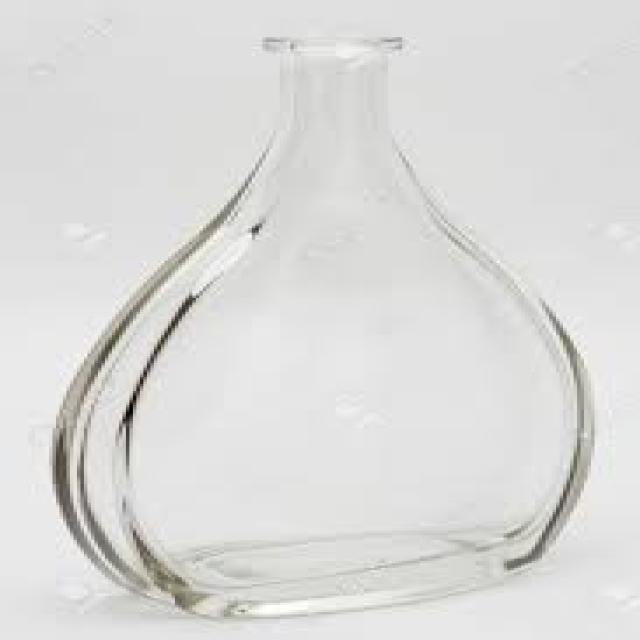Glass-Bottle: (48, 18, 591, 630)
